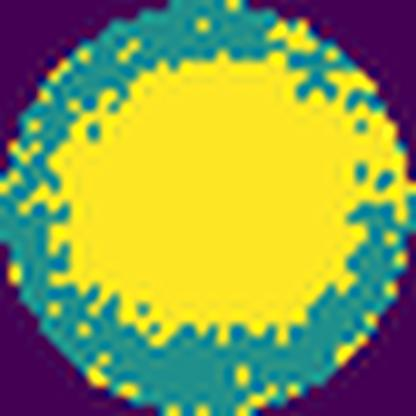Center: (55, 60, 365, 328)
